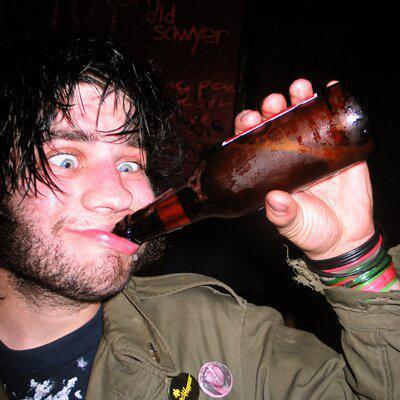Drunk: (15, 96, 147, 279)
